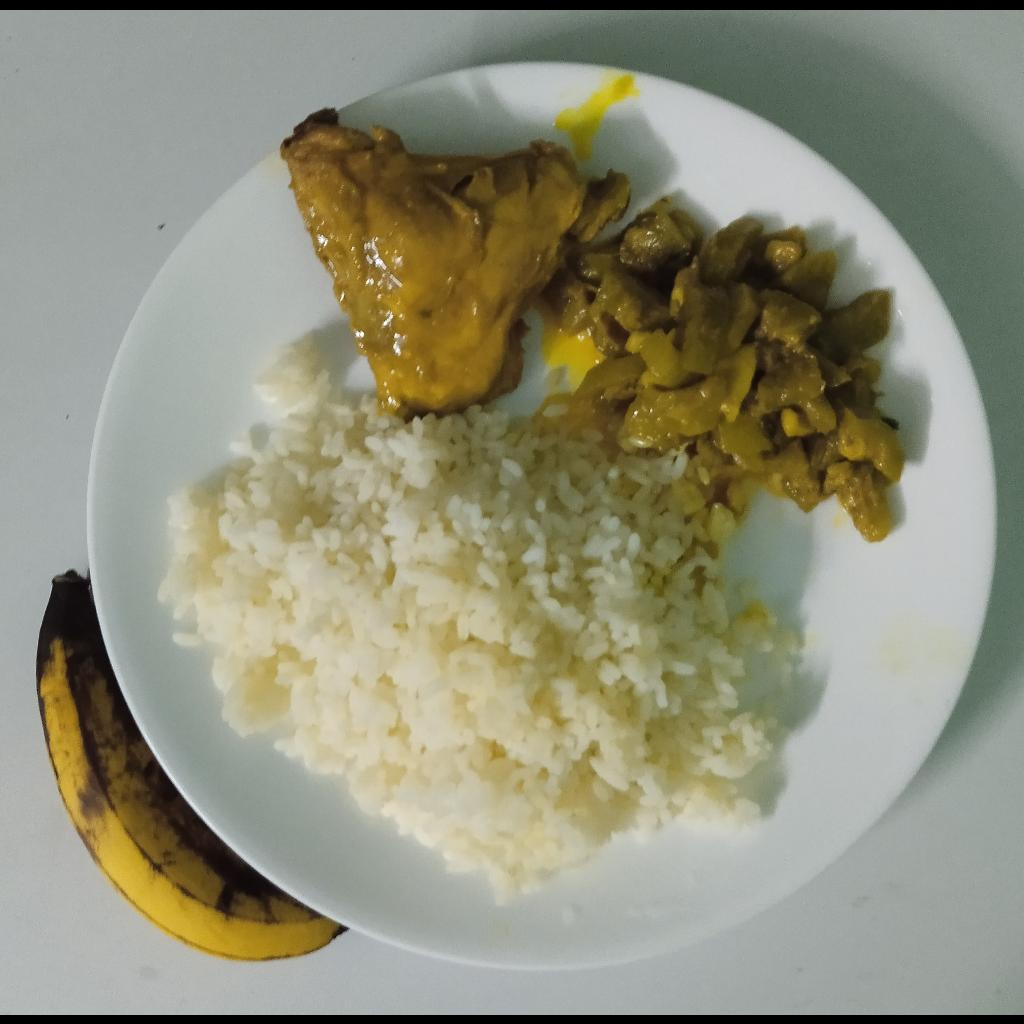banana: (35, 567, 347, 965)
chicken: (279, 103, 628, 412)
dundol: (555, 197, 907, 542)
rice: (158, 337, 811, 905)
